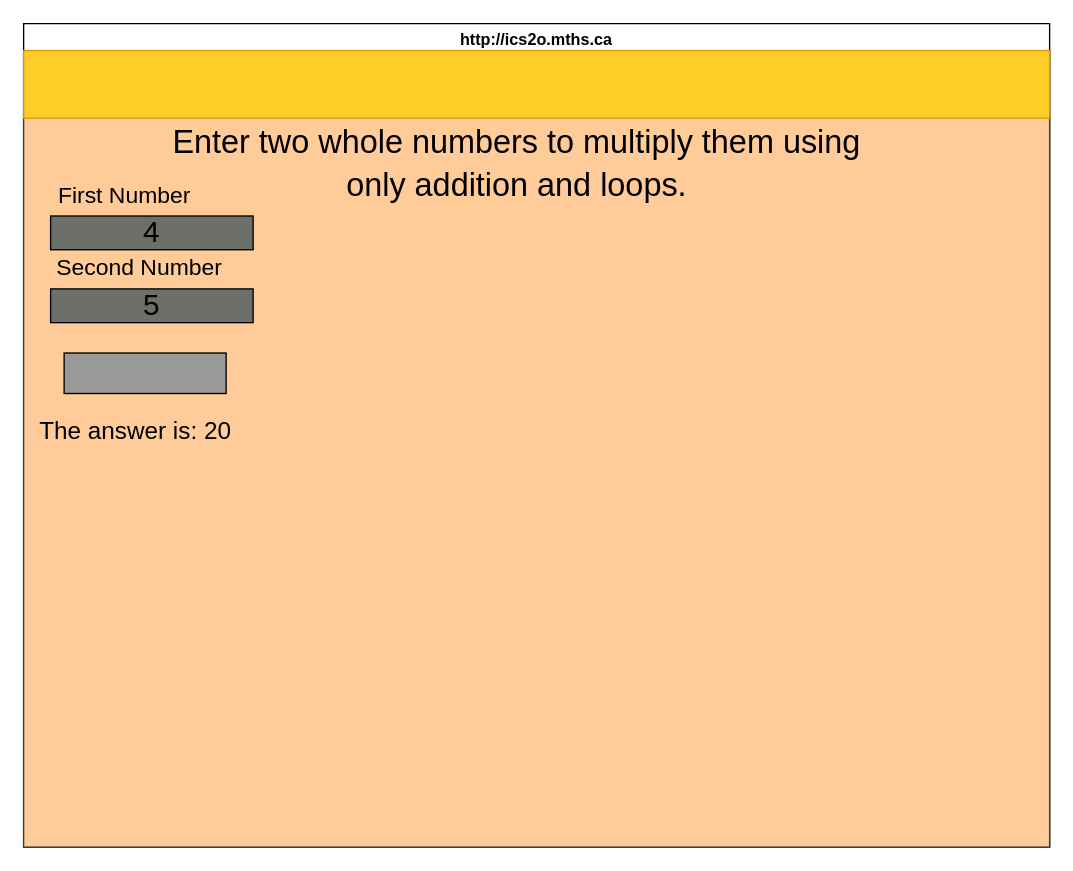
Image size: 1073x871. Some labels were removed from this diagram. The shapes that lost their labels are listed below. From the top down, each one's centre as x and y in pixels, then its label:
At (x=536, y=83): "Addition-Only Multiplicator".
At (x=144, y=373): "Calculate".
